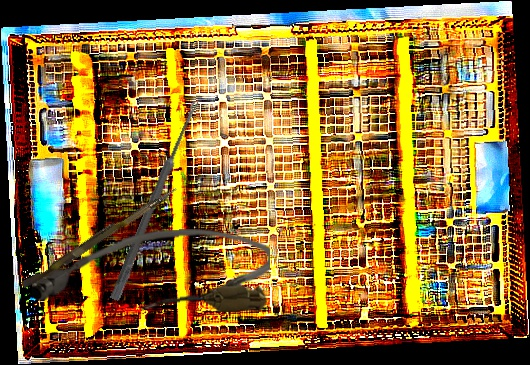Cannula: (31, 227, 271, 316)
Pusher: (21, 181, 178, 293)
Surgical Spoon: (109, 99, 201, 302)
